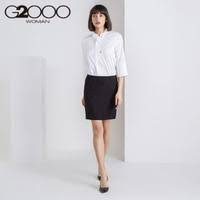F_tailored skirt: (81, 71, 120, 123)
